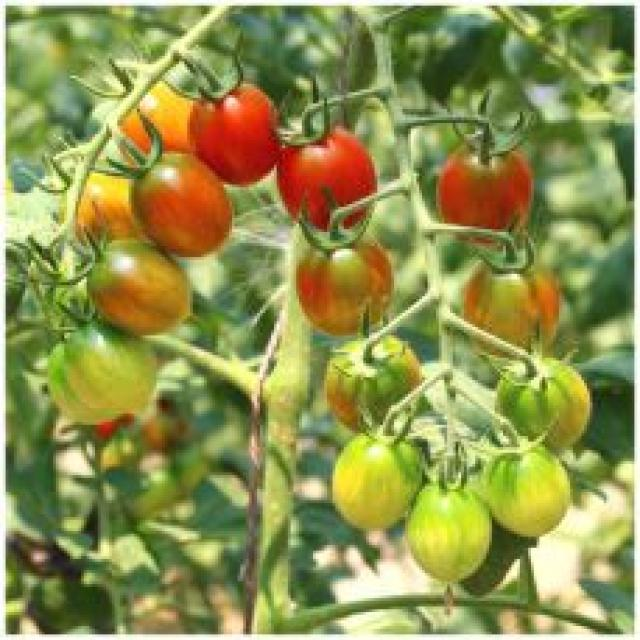level 2: (483, 342, 594, 456), (317, 419, 428, 531), (396, 482, 502, 583), (482, 437, 578, 541), (48, 333, 153, 426), (114, 456, 196, 530)
level 3: (73, 238, 211, 349), (305, 340, 424, 427)
level 4: (53, 150, 174, 262), (107, 72, 218, 169), (281, 241, 416, 319), (460, 260, 570, 354)
level 5: (424, 124, 562, 246), (123, 152, 237, 255)
level 6: (272, 110, 392, 245), (185, 67, 282, 184)
